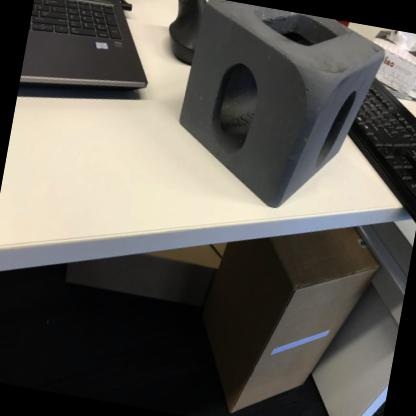CornerCasting: (164, 0, 392, 228)
